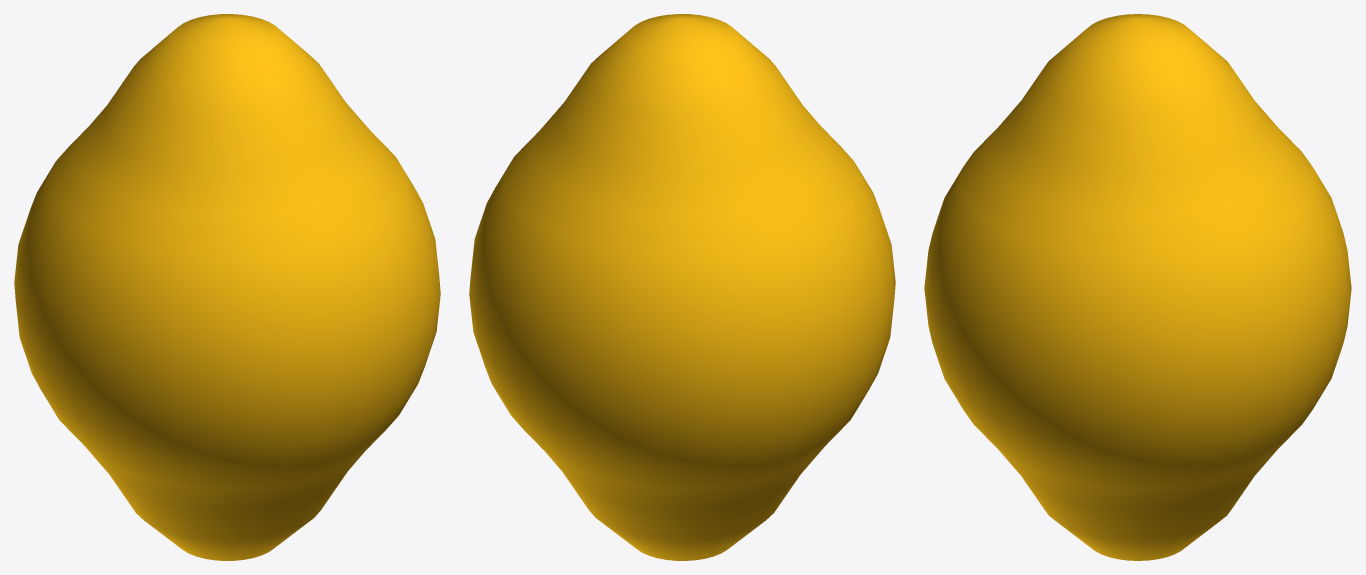
File: limon.fbx
The picture shows the model from 3 angles, left to right: view 1: azimuth 30°, elevation 25°; view 2: azimuth 150°, elevation 25°; view 3: azimuth 270°, elevation 25°; orthographic projection.
Parts seen in each view (by area): view 1: #lemon; view 2: #lemon; view 3: #lemon.
Part boxes in pixels (x1=…): #lemon: x1=14, y1=14, x2=440, y2=560; #lemon: x1=469, y1=14, x2=895, y2=560; #lemon: x1=924, y1=14, x2=1351, y2=560.
Bounding box in the file's own units: 200 × 277 × 200.
